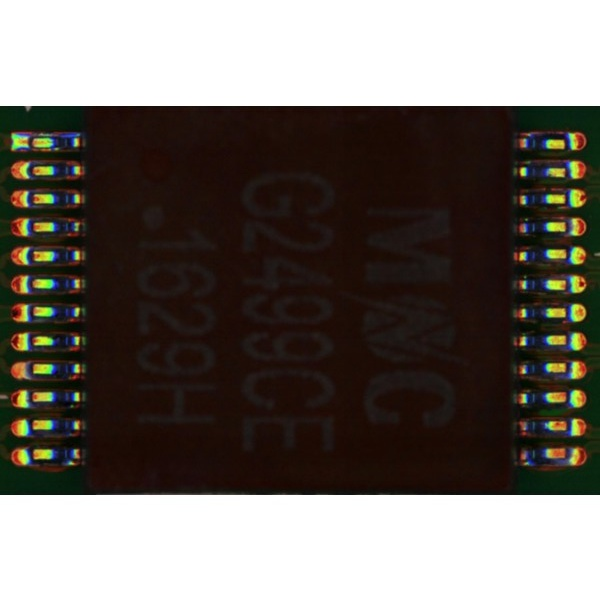Bad_podu: (21, 137, 36, 145)
Bad_qiaojiao: (34, 131, 72, 136), (34, 146, 65, 151)
